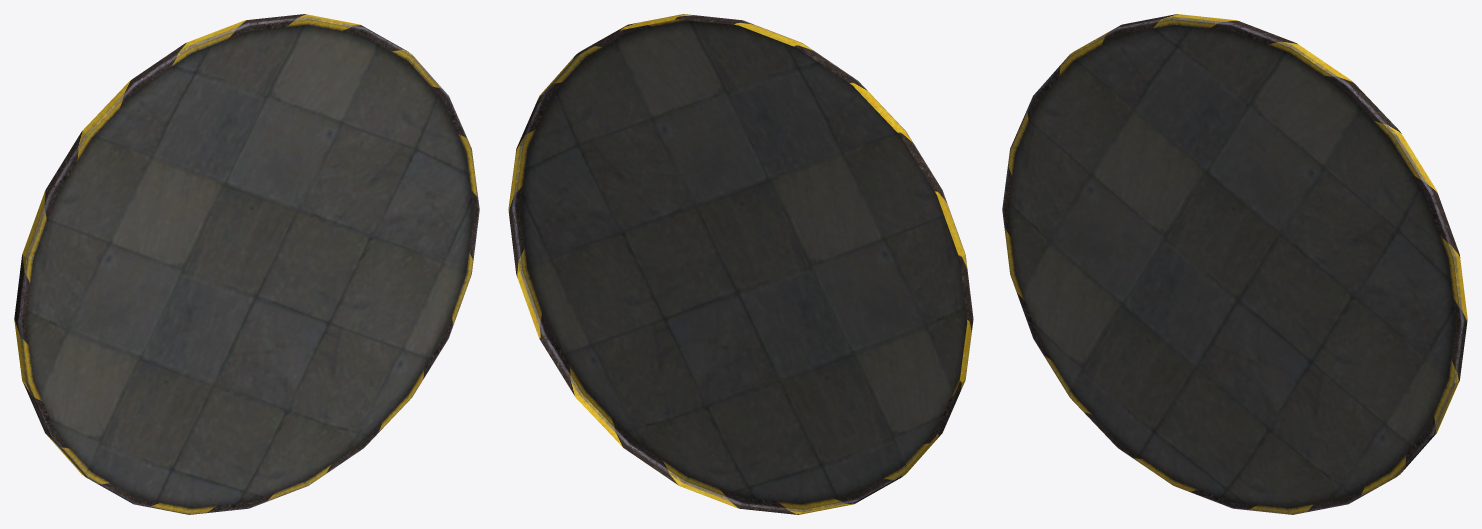
Rendered from platform.obj.
The picture shows the model from 3 angles, left to right: view 1: azimuth 30°, elevation 25°; view 2: azimuth 150°, elevation 25°; view 3: azimuth 330°, elevation 25°; orthographic projection.
Visible parts, largest first — view 1: DrawCall_146.001; view 2: DrawCall_146.001; view 3: DrawCall_146.001.
Boxes of the visible parts, x1,y1,x2,y2 form: DrawCall_146.001: [14, 14, 479, 514]; DrawCall_146.001: [508, 14, 973, 514]; DrawCall_146.001: [1002, 14, 1467, 514].
Bounding box in the file's own units: 18.69 × 18.8 × 0.4356.
